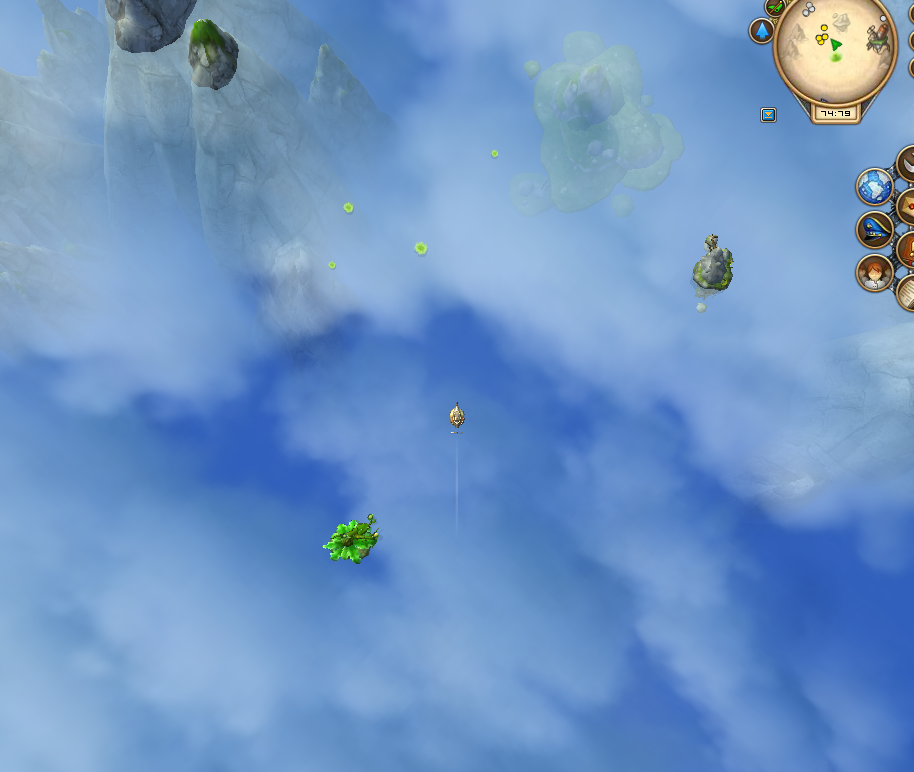dandelion-empty: (321, 508, 384, 567)
fluff: (409, 237, 432, 259), (339, 196, 357, 216), (486, 146, 502, 160), (324, 260, 340, 271)
